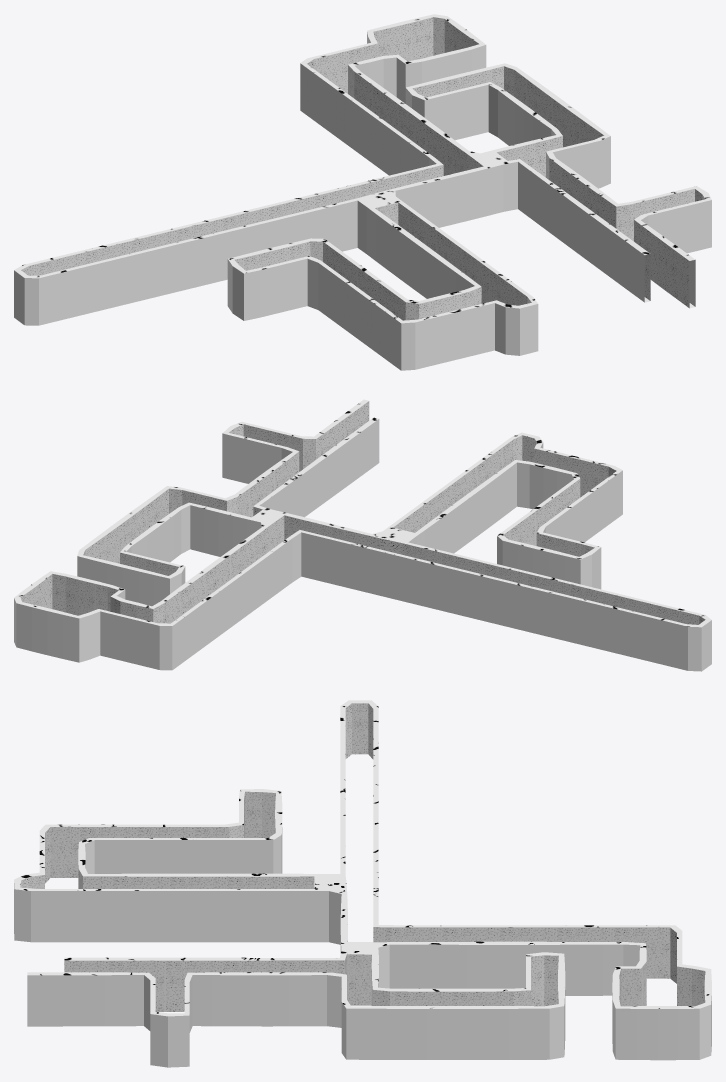
The model's file is Level_1.fbx.
The picture shows the model from 3 angles, top to bottom: view 1: azimuth 30°, elevation 25°; view 2: azimuth 150°, elevation 25°; view 3: azimuth 270°, elevation 25°; orthographic projection. The views are drawn at different scales.
Parts seen in each view (by area): view 1: Cube.001; view 2: Cube.001; view 3: Cube.001.
Part boxes in pixels (bbox=[...]): Cube.001: bbox=[14, 14, 711, 370]; Cube.001: bbox=[14, 399, 711, 671]; Cube.001: bbox=[14, 700, 711, 1067].
Size of the model in its own units: 4.95 by 0.3737 by 4.62.
Materials: 1 (1 with a texture image).
